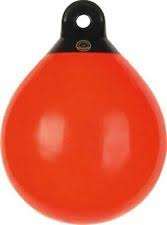buoy: (1, 52, 166, 225)
